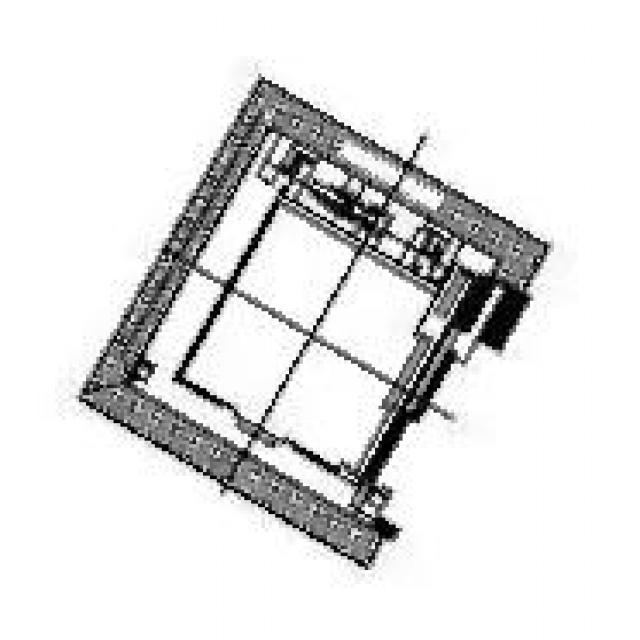lift: (72, 74, 544, 566)
